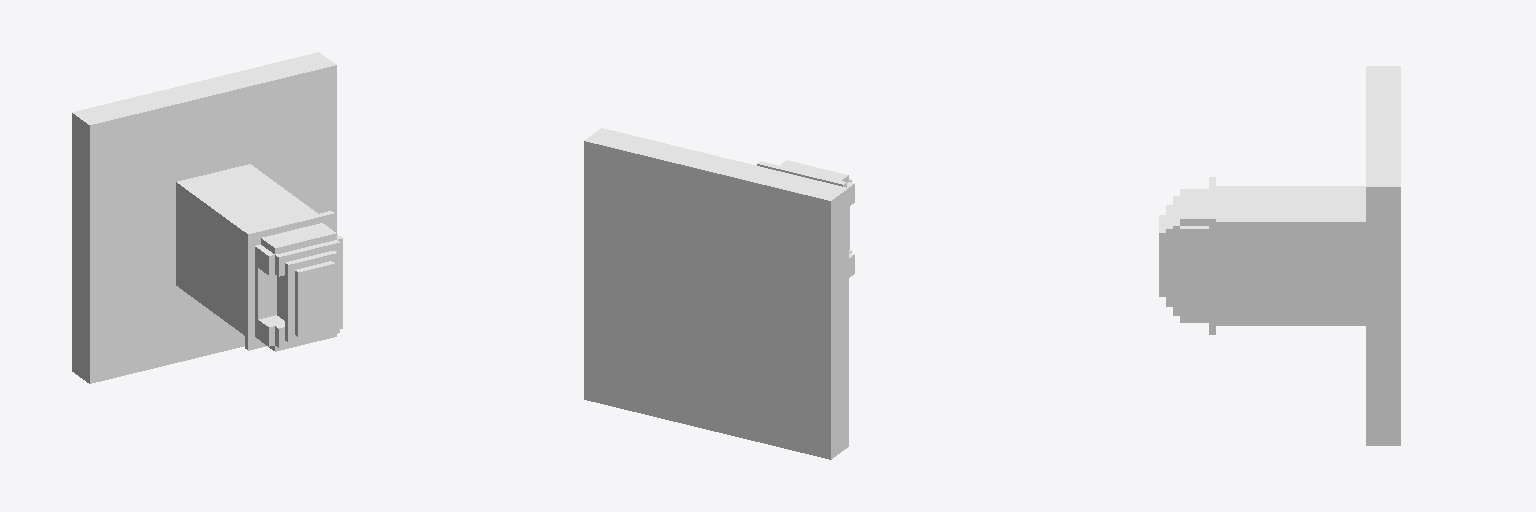
Rendered from TrashBin-0.obj.
3 views of the same model, side by side, from view 1: azimuth 30°, elevation 25°; view 2: azimuth 150°, elevation 25°; view 3: azimuth 270°, elevation 25° (orthographic).
Parts seen in each view (by area): view 1: object 1; view 2: object 1; view 3: object 1.
Boxes of the visible parts, <box> form: object 1: <box>72,52,342,383</box>; object 1: <box>584,128,854,459</box>; object 1: <box>1159,66,1400,445</box>.
Size of the model in its own units: 40 by 40 by 34.